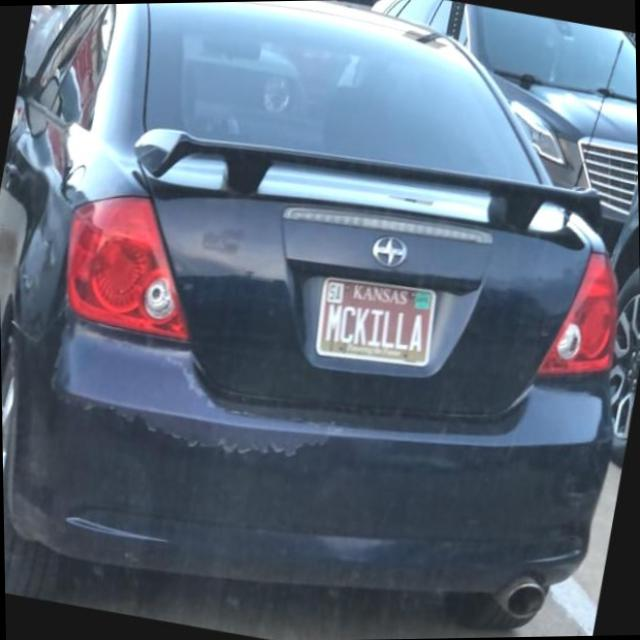LicensePlate: (312, 275, 437, 367)
